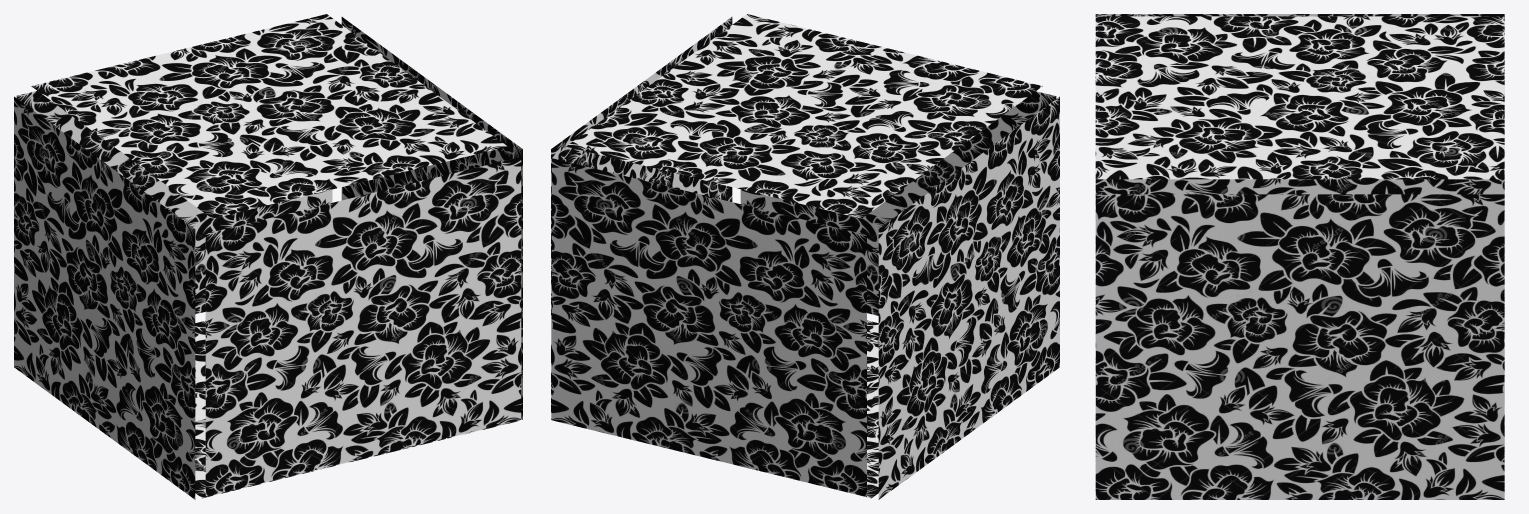
Rendered from pattern8-9x9x5.gltf.
The picture shows the model from 3 angles, left to right: view 1: azimuth 30°, elevation 25°; view 2: azimuth 150°, elevation 25°; view 3: azimuth 270°, elevation 25°; orthographic projection. The views are drawn at different scales.
Parts seen in each view (by area): view 1: Cube.005; view 2: Cube.005; view 3: Cube.005.
Part boxes in pixels (x1,y1,x2,y2): Cube.005: (14,14,522,499); Cube.005: (551,14,1059,499); Cube.005: (1095,14,1504,499).
Size of the model in its own units: 3 by 2.43 by 3.
Materials: 1 (1 with a texture image).
